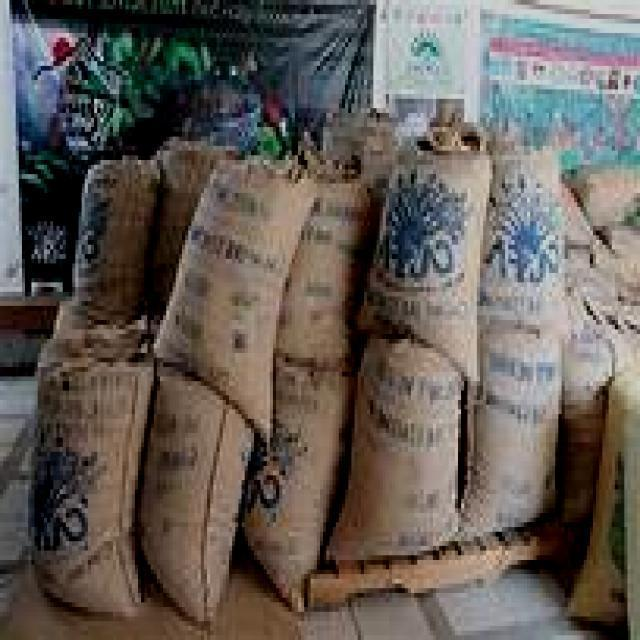gunny_bag: (152, 148, 320, 451), (346, 117, 494, 398), (19, 323, 156, 622), (317, 336, 465, 566), (136, 362, 257, 634), (238, 358, 351, 609), (467, 329, 562, 532), (273, 184, 373, 369), (480, 151, 568, 339), (72, 160, 157, 325)
